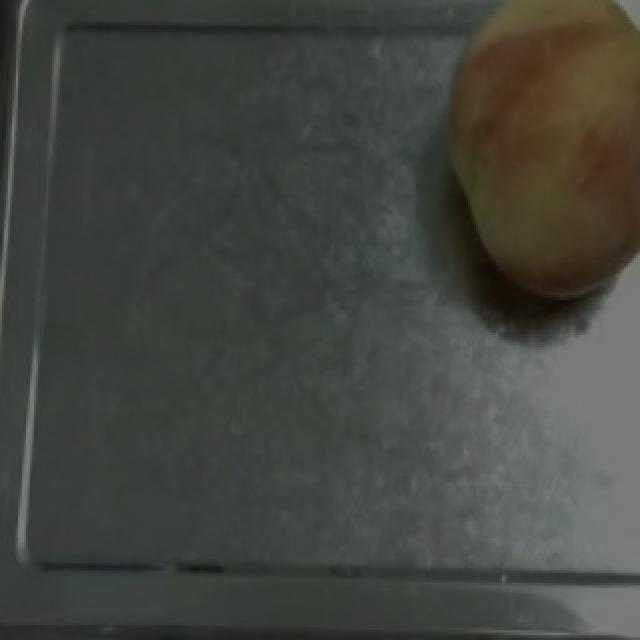Fruit: (426, 0, 640, 313)
